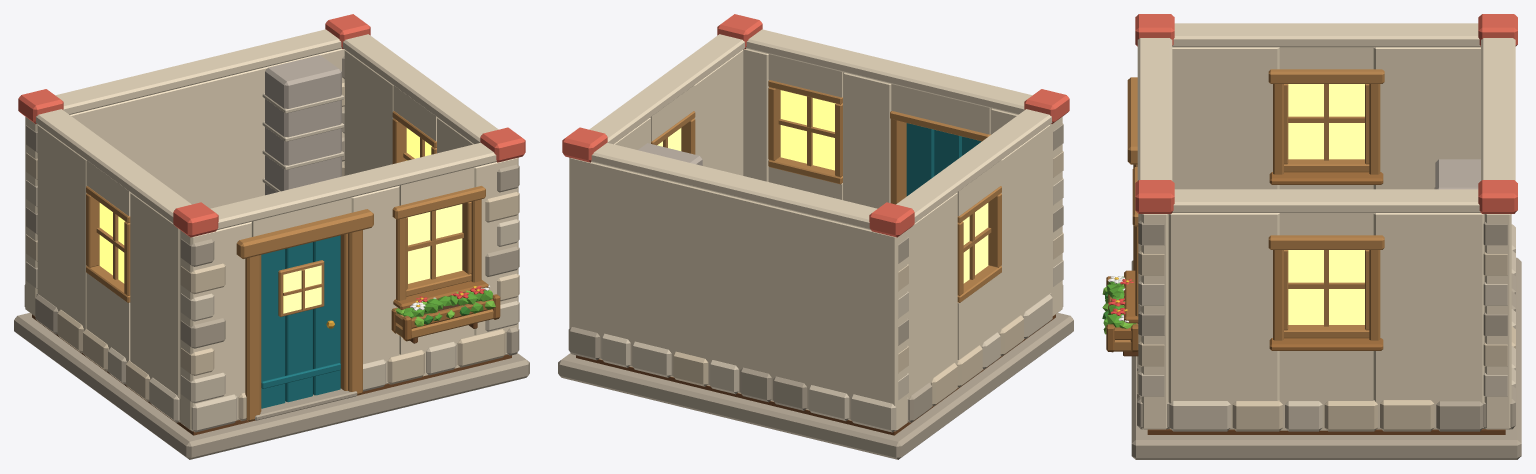
File: cottage_interior_shell.glb
3 views of the same model, side by side, from view 1: azimuth 30°, elevation 25°; view 2: azimuth 150°, elevation 25°; view 3: azimuth 270°, elevation 25° (orthographic). The views are drawn at different scales.
Parts seen in each view (by area): view 1: cottage_interior_shell_cutaway, cottage_interior_shell; view 2: cottage_interior_shell, cottage_interior_shell_cutaway; view 3: cottage_interior_shell_cutaway, cottage_interior_shell.
Part boxes in pixels (box(x1,y1,x2,y2)): cottage_interior_shell_cutaway: box(179, 34, 525, 432); cottage_interior_shell: box(14, 14, 529, 459); cottage_interior_shell: box(558, 89, 1073, 459); cottage_interior_shell_cutaway: box(589, 14, 1063, 316); cottage_interior_shell_cutaway: box(1102, 38, 1484, 431); cottage_interior_shell: box(1131, 14, 1521, 459).
Size of the model in its own units: 3.62 by 2.37 by 3.4.
